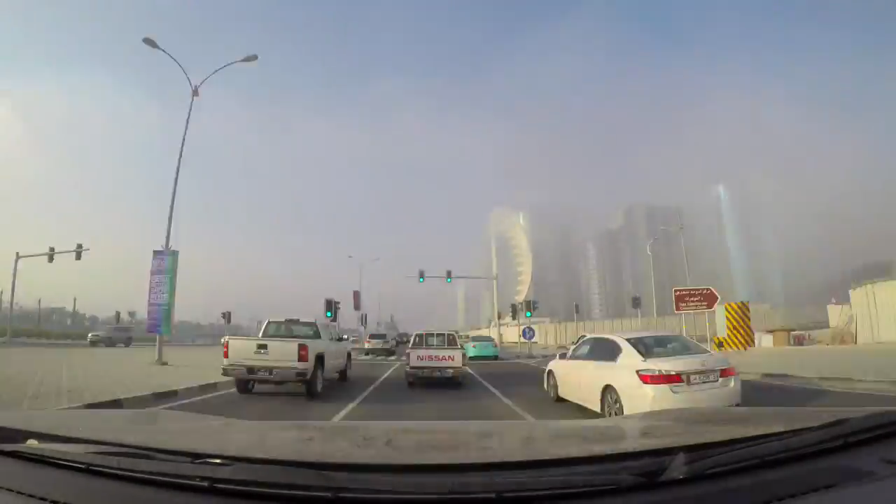car: (541, 329, 744, 424), (220, 317, 353, 402), (403, 329, 467, 389), (86, 323, 133, 348), (461, 334, 501, 361), (363, 331, 392, 355), (394, 331, 410, 343)
